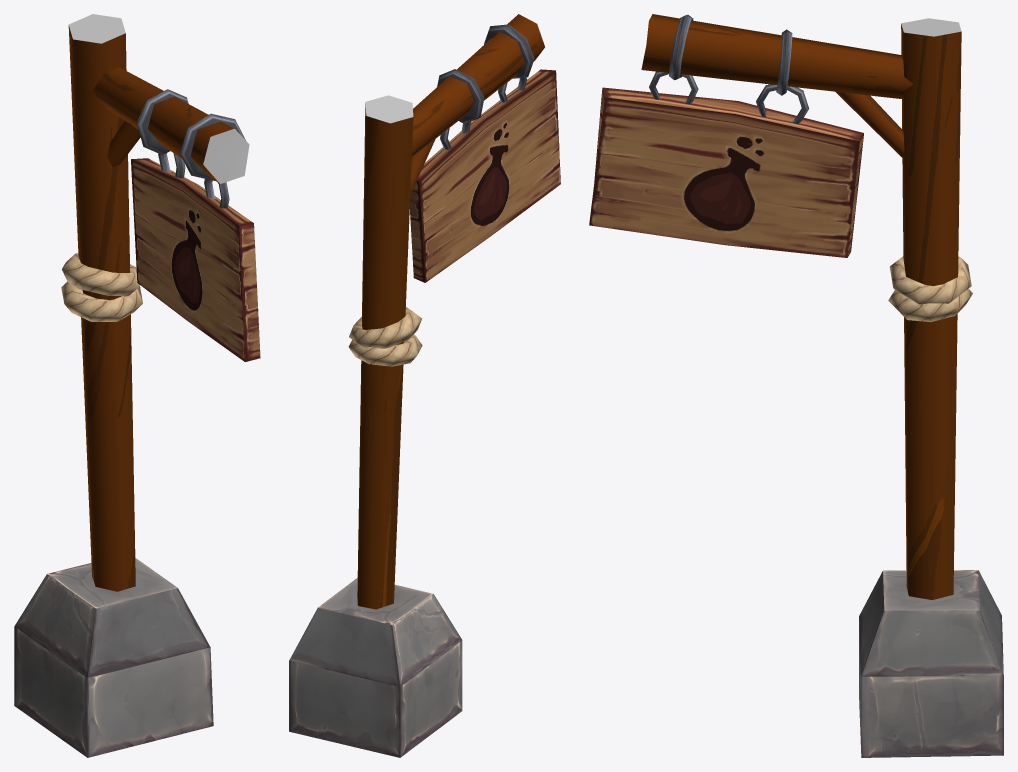
Rendered from SM_PROP_sign_02.fbx.
3 views of the same model, side by side, from view 1: azimuth 30°, elevation 25°; view 2: azimuth 150°, elevation 25°; view 3: azimuth 270°, elevation 25° (orthographic). The views are drawn at different scales.
Visible parts, largest first — view 1: SM_PROP_sign_02; view 2: SM_PROP_sign_02; view 3: SM_PROP_sign_02.
Part boxes in pixels (x1=…): SM_PROP_sign_02: x1=14, y1=14, x2=260, y2=757; SM_PROP_sign_02: x1=289, y1=14, x2=560, y2=757; SM_PROP_sign_02: x1=589, y1=14, x2=1003, y2=757.
Bounding box in the file's own units: 65.51 × 340 × 183.
